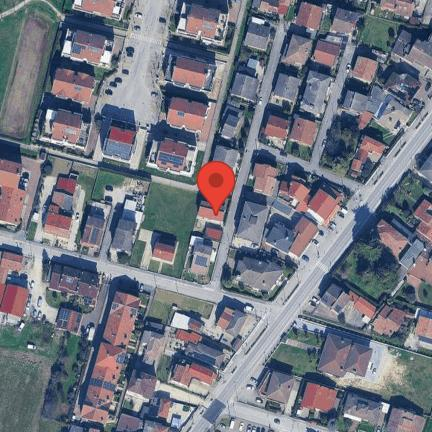area_open: (207, 395, 347, 432), (97, 70, 163, 128), (10, 255, 56, 325), (128, 2, 168, 41), (105, 179, 149, 206), (320, 374, 367, 393), (376, 52, 397, 79), (417, 79, 431, 104)
built: (82, 292, 140, 425), (320, 284, 432, 344), (340, 54, 418, 137), (367, 197, 432, 295), (271, 175, 344, 229), (186, 195, 230, 280), (170, 310, 224, 368), (34, 103, 95, 152), (58, 26, 116, 69), (174, 3, 229, 47), (318, 334, 374, 377), (146, 132, 197, 177), (47, 265, 104, 305), (44, 175, 79, 239), (47, 65, 98, 107), (266, 217, 319, 257), (0, 252, 30, 320), (217, 307, 262, 352), (392, 31, 432, 78), (108, 201, 144, 253), (349, 134, 387, 183), (118, 399, 174, 432), (226, 258, 284, 289), (163, 98, 210, 136), (339, 395, 388, 429), (165, 355, 218, 386), (233, 200, 269, 245), (104, 116, 139, 162), (79, 201, 111, 251), (299, 68, 332, 115), (256, 369, 298, 405), (164, 57, 210, 89), (207, 143, 239, 188), (142, 326, 173, 371), (280, 32, 314, 69), (300, 383, 339, 415), (125, 368, 159, 402), (216, 107, 248, 143), (376, 0, 421, 25), (71, 0, 128, 19), (0, 185, 26, 226), (287, 116, 318, 150), (384, 408, 426, 432), (310, 39, 342, 70), (272, 71, 302, 104), (228, 70, 259, 101), (249, 166, 280, 197), (329, 7, 360, 38), (293, 1, 323, 33), (53, 309, 83, 338), (242, 22, 272, 51), (259, 112, 289, 140), (0, 158, 23, 190), (151, 241, 178, 264), (249, 0, 291, 14), (418, 142, 432, 184)
vegetation_low: (0, 0, 70, 148), (0, 315, 88, 432), (31, 157, 126, 244), (311, 300, 430, 357), (366, 348, 429, 414), (142, 178, 200, 243), (264, 319, 329, 375), (340, 233, 397, 295), (381, 172, 429, 228), (358, 12, 403, 49), (46, 290, 94, 315)
